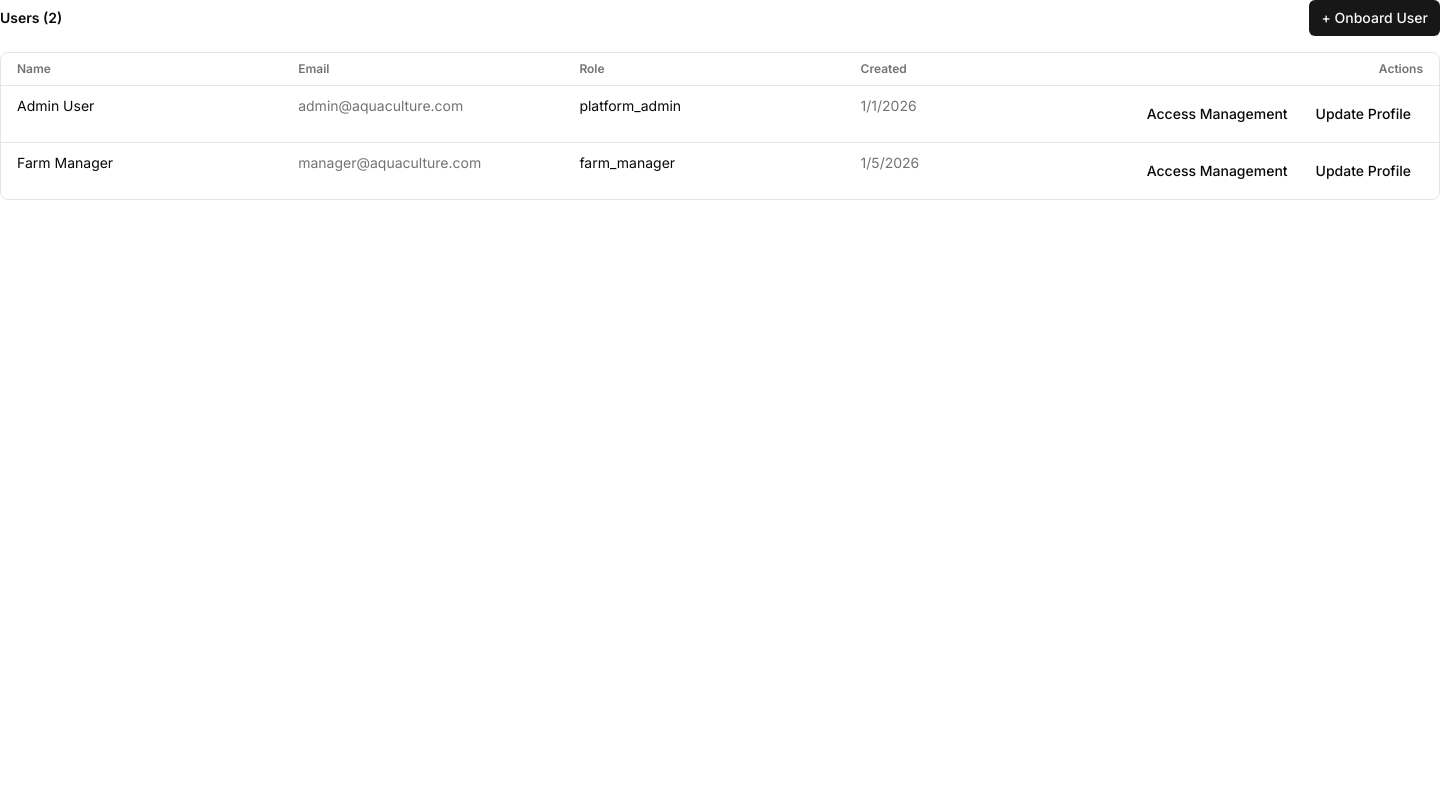
Test case: Users — OnboardUserDialog routing › clicking '+ Onboard User' opens the Onboard dialog
Click the button "+ Onboard User": point(1375, 18) [1310,0,1439,36]
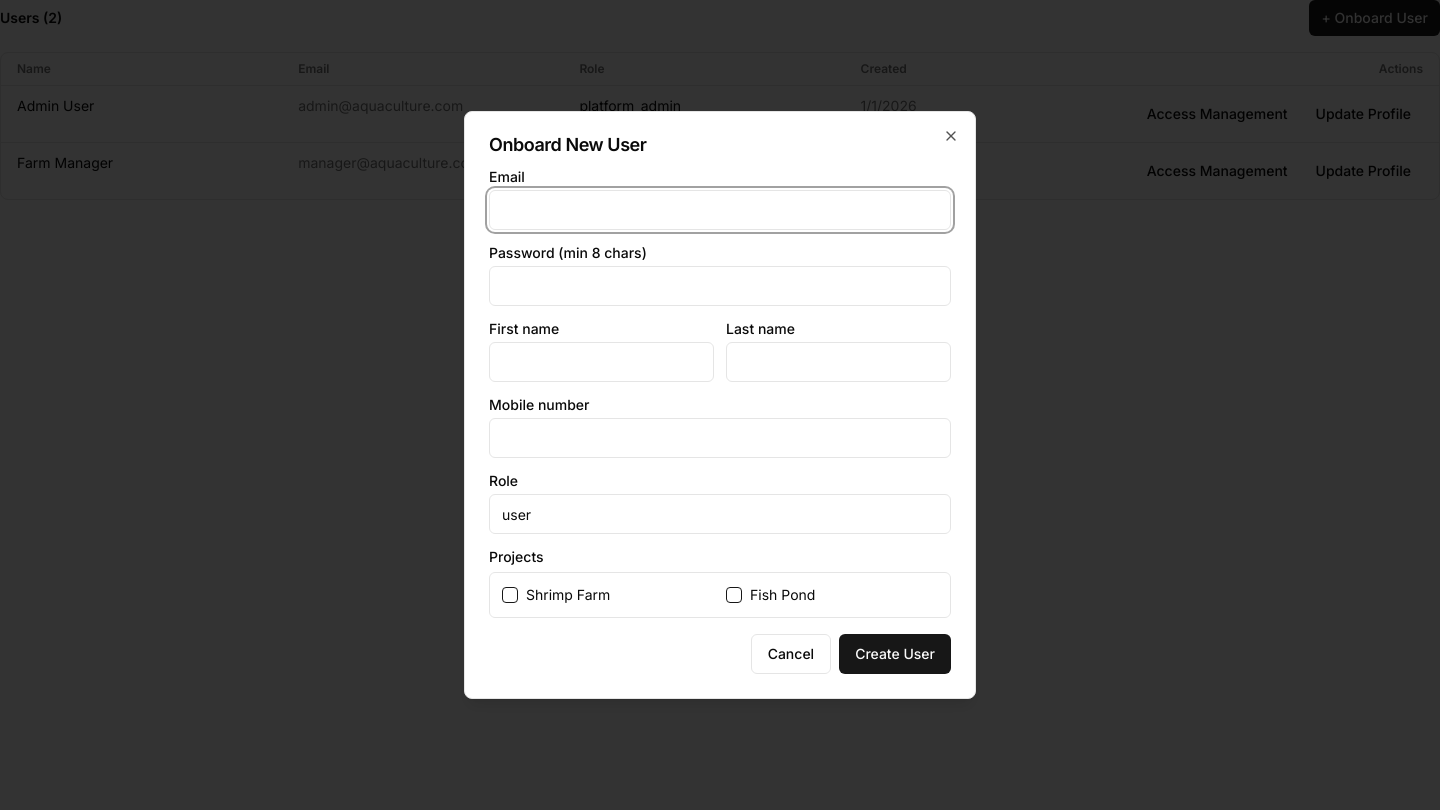
Now the heading "Onboard New User" is shown, box [489,134,646,155]
